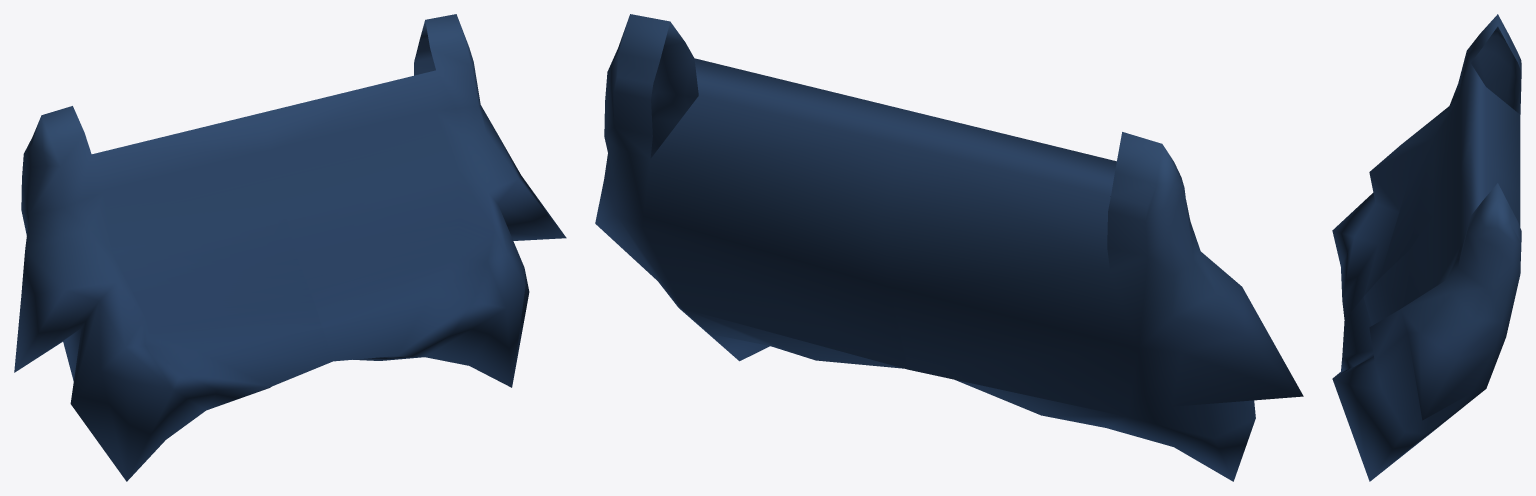
The model's file is Beard_Blue_11.fbx.
3 renders of one model, left to right at view 1: azimuth 30°, elevation 25°; view 2: azimuth 150°, elevation 25°; view 3: azimuth 270°, elevation 25°, orthographic. The views are drawn at different scales.
Parts seen in each view (by area): view 1: Beard_Blue_11; view 2: Beard_Blue_11; view 3: Beard_Blue_11.
Boxes of the visible parts, x1,y1,x2,y2 form: Beard_Blue_11: (14,14,566,481); Beard_Blue_11: (595,14,1303,481); Beard_Blue_11: (1332,14,1521,481).
Bounding box in the file's own units: 66 × 36.6 × 21.51.
